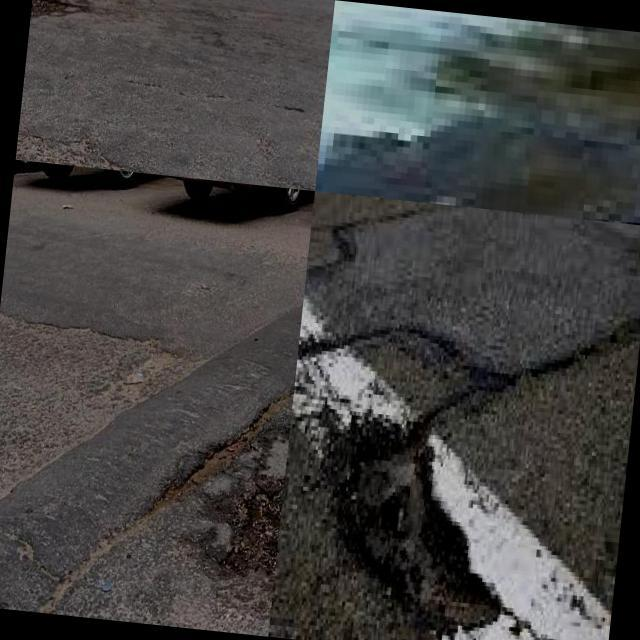Pothole: (353, 459, 494, 627), (213, 474, 285, 580), (30, 0, 86, 21)
